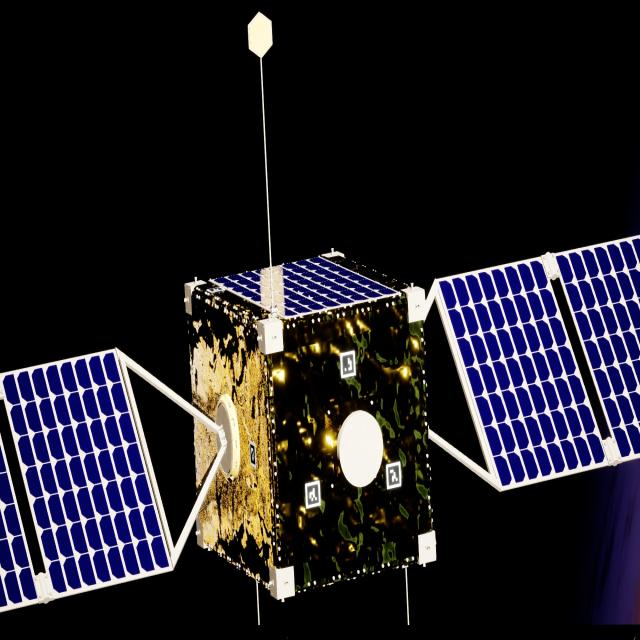medium_debris: (0, 235, 640, 614)
